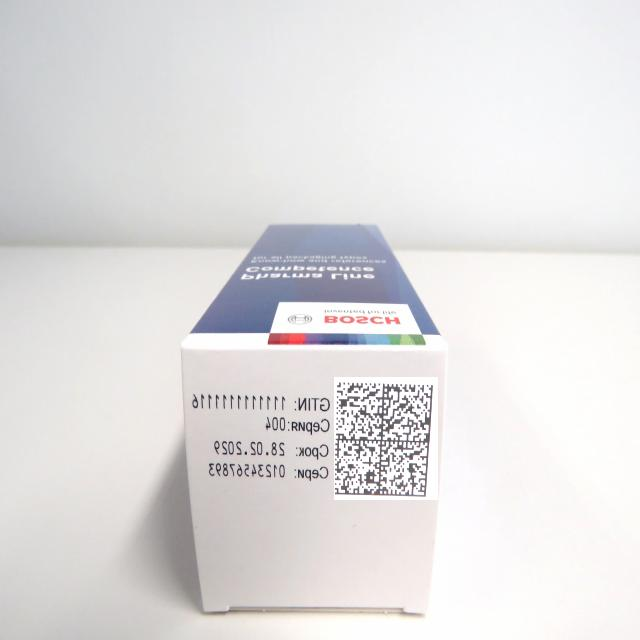DataMatrix: (334, 377, 438, 500)
